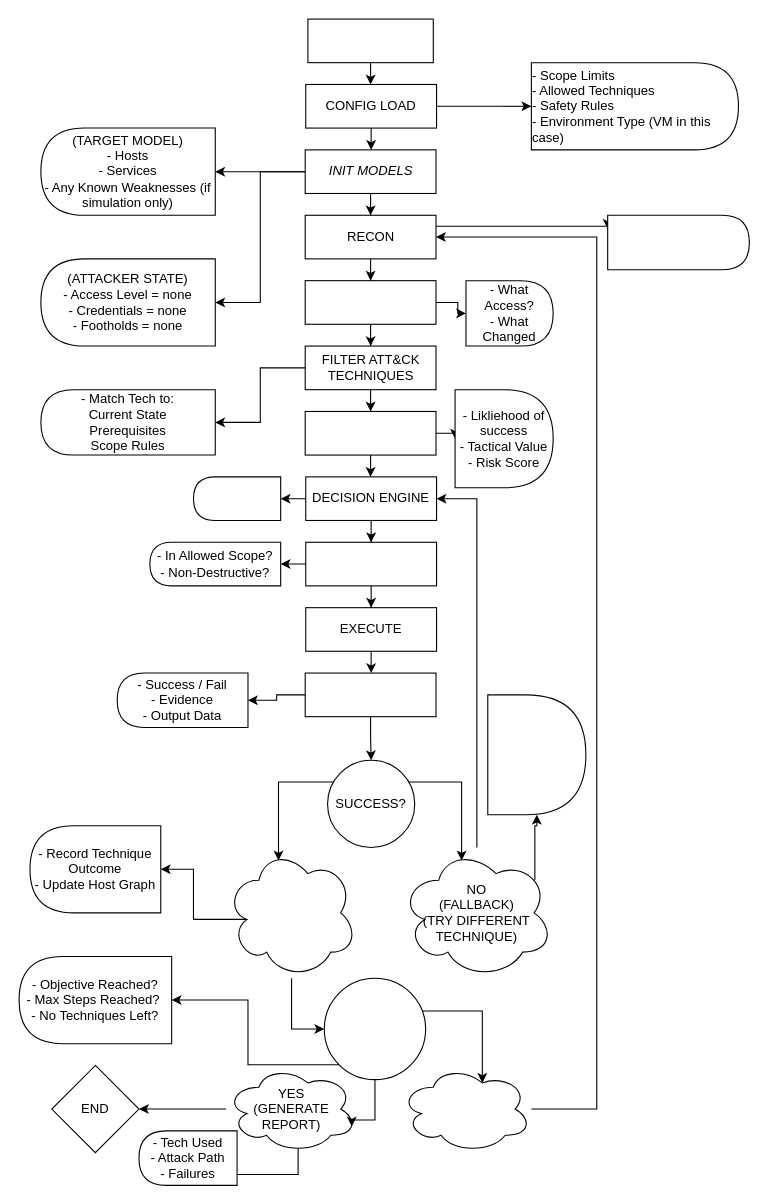
Some shapes in this 768 by 1204 pixel diagram are drawn without their labels. Each missing label, with the centre of its shape:
- Choose Alt Tech - Reduce Score - Mark Failed Path: the point at 536,754
- Get Environment Data - Update Target Model: the point at 678,242
ANALYZE STATE: the point at 370,302
COLLECT RESULT: the point at 370,694
GOAL COMPLETED?: the point at 374,1028
Next Best Technique: the point at 236,498
NO (FALLBACK TO RECON): the point at 465,1108
SAFETY CHECK: the point at 371,563
SCORE TECHNIQUES: the point at 370,432
START: the point at 370,40
YES (UPDATE STATE ) (UPDATE KNOWLEDGE ): the point at 291,912
